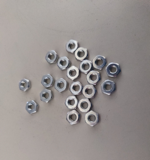nut: (101, 80, 117, 96), (106, 63, 122, 78), (86, 111, 100, 127), (82, 85, 97, 99), (67, 111, 81, 125), (78, 99, 92, 113), (70, 82, 84, 96), (93, 56, 107, 70), (87, 71, 101, 85), (58, 57, 72, 71), (66, 40, 80, 54), (26, 100, 39, 115), (40, 89, 53, 104), (55, 78, 68, 93), (67, 66, 80, 81), (65, 96, 78, 110), (41, 74, 54, 88), (80, 60, 93, 74), (75, 48, 89, 61), (46, 51, 59, 64), (20, 79, 32, 92)
